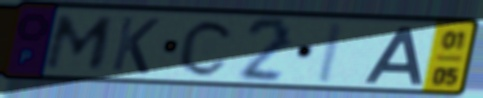2: (237, 14, 300, 85)
A: (361, 25, 425, 87)
C: (176, 17, 238, 79)
I: (312, 19, 349, 86)
K: (107, 14, 163, 77)
M: (41, 12, 119, 72)
